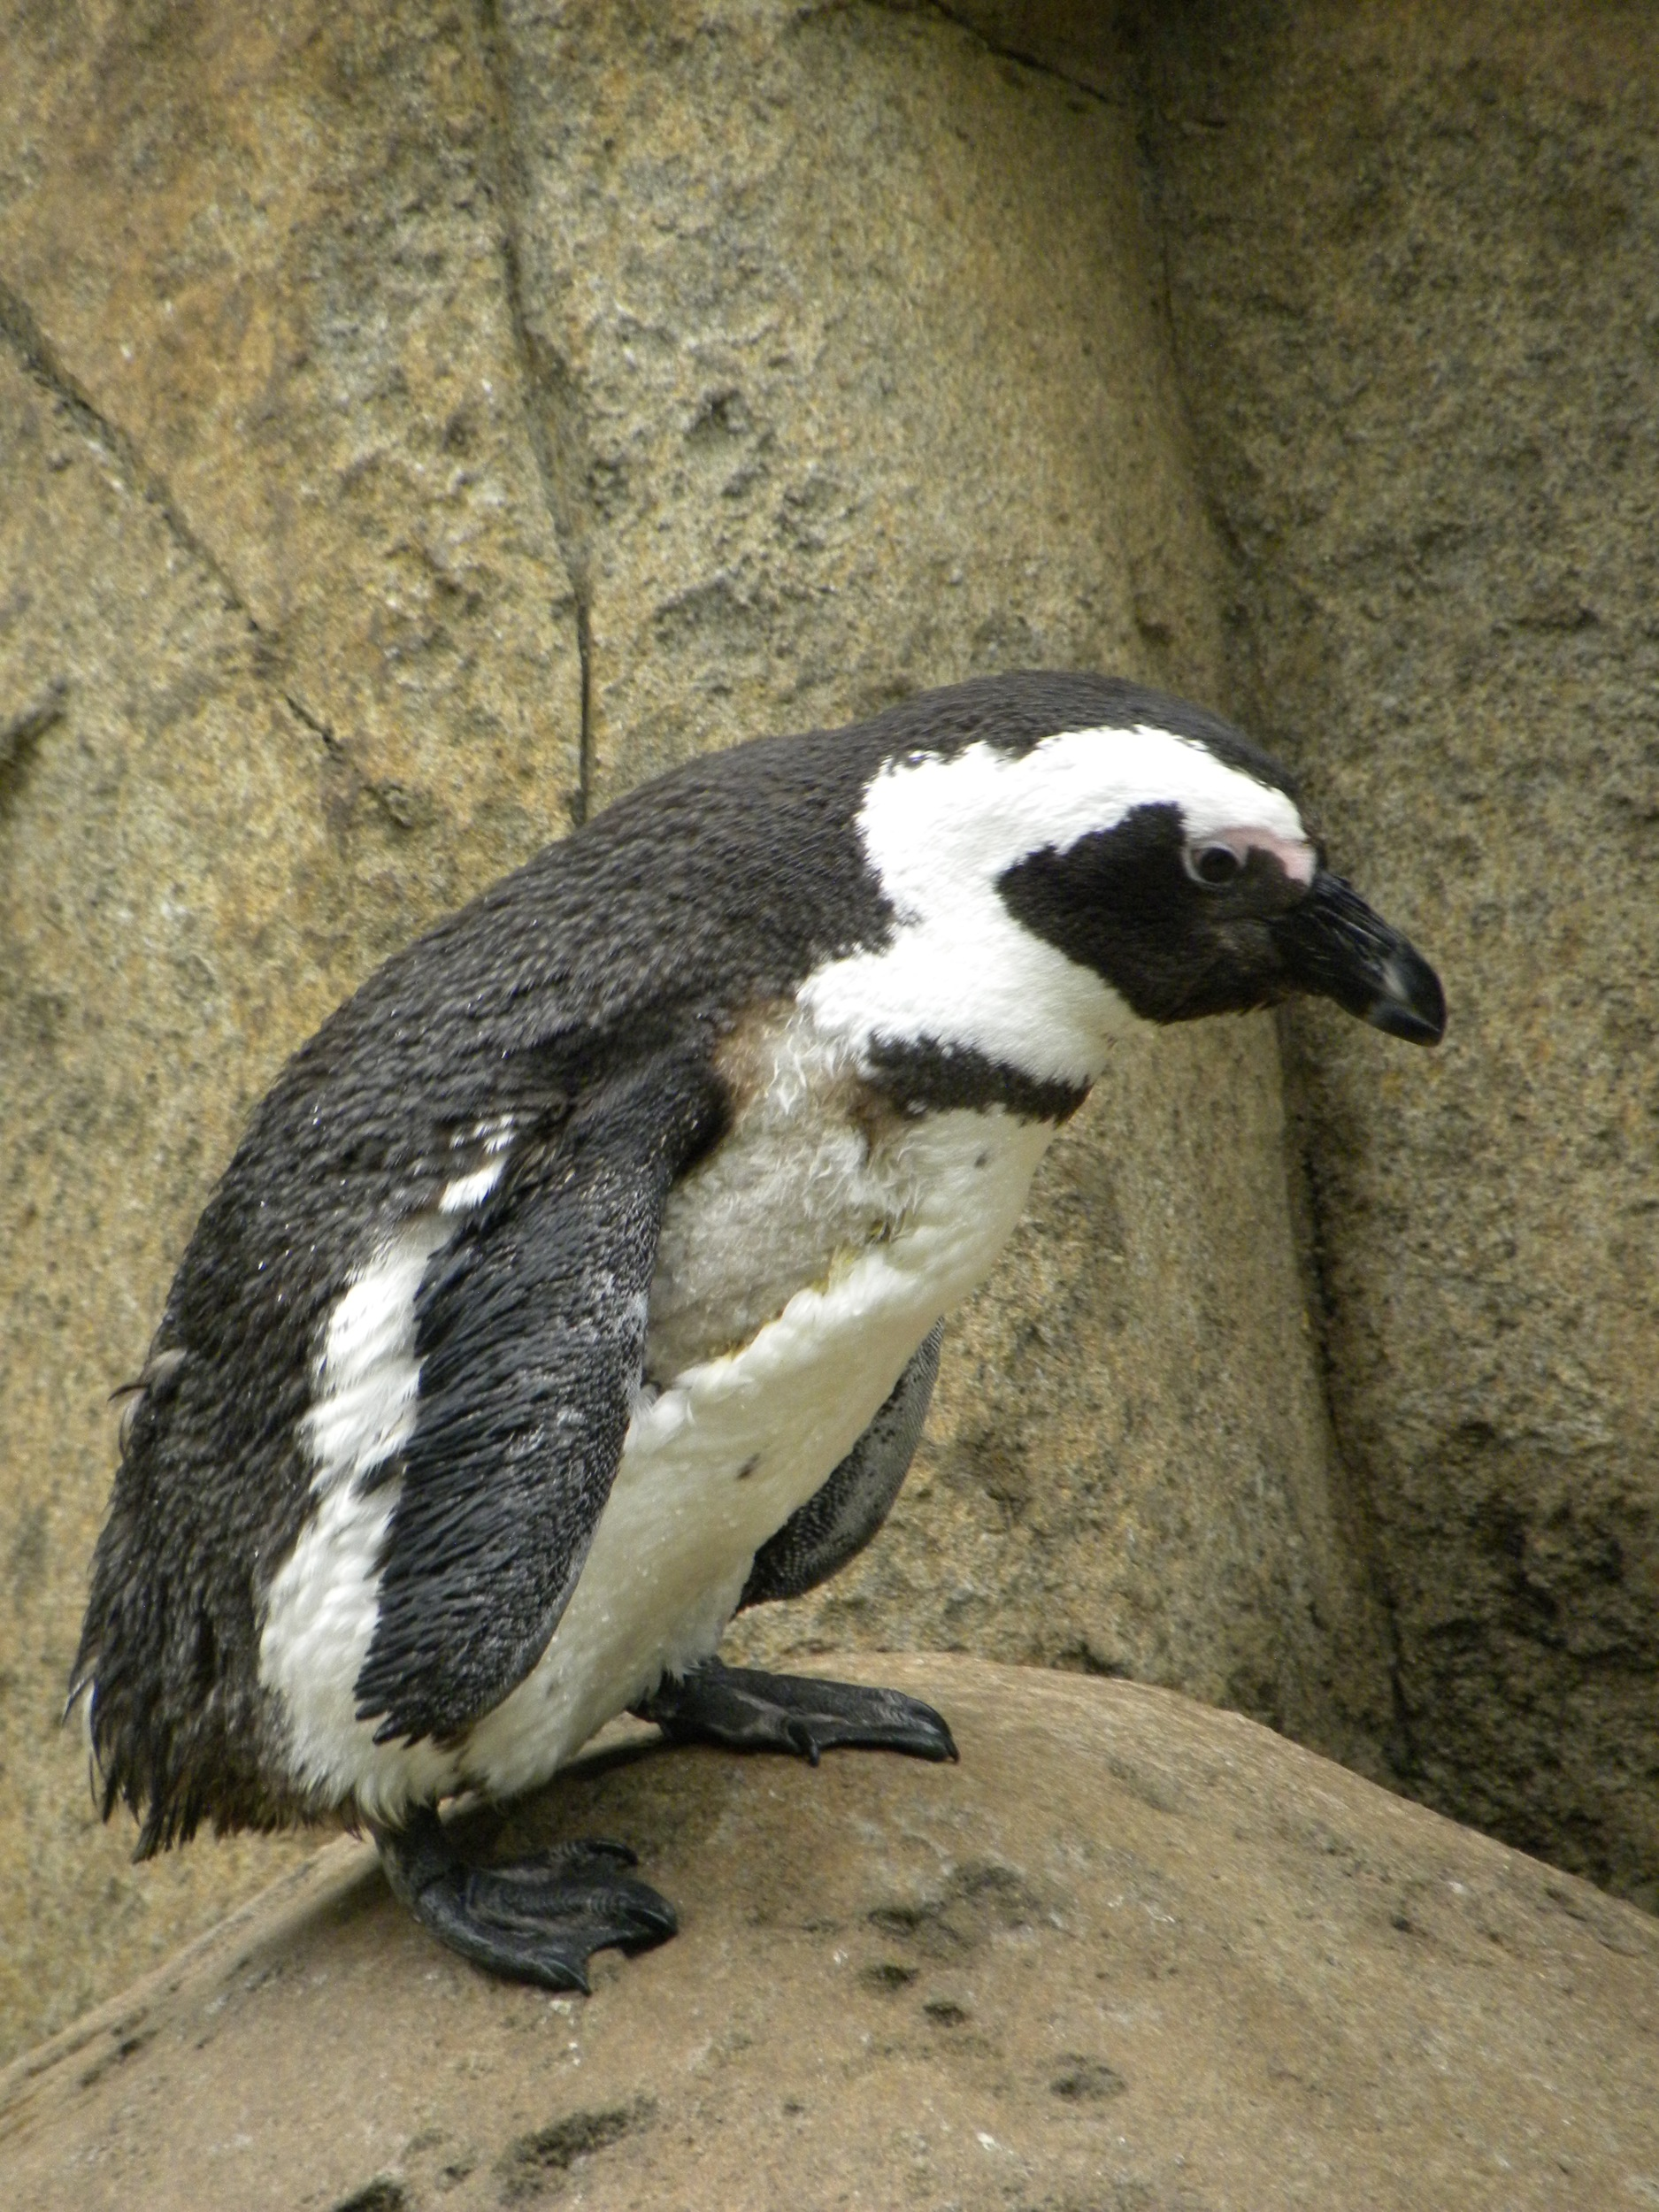penguin: (108, 657, 1471, 2012)
